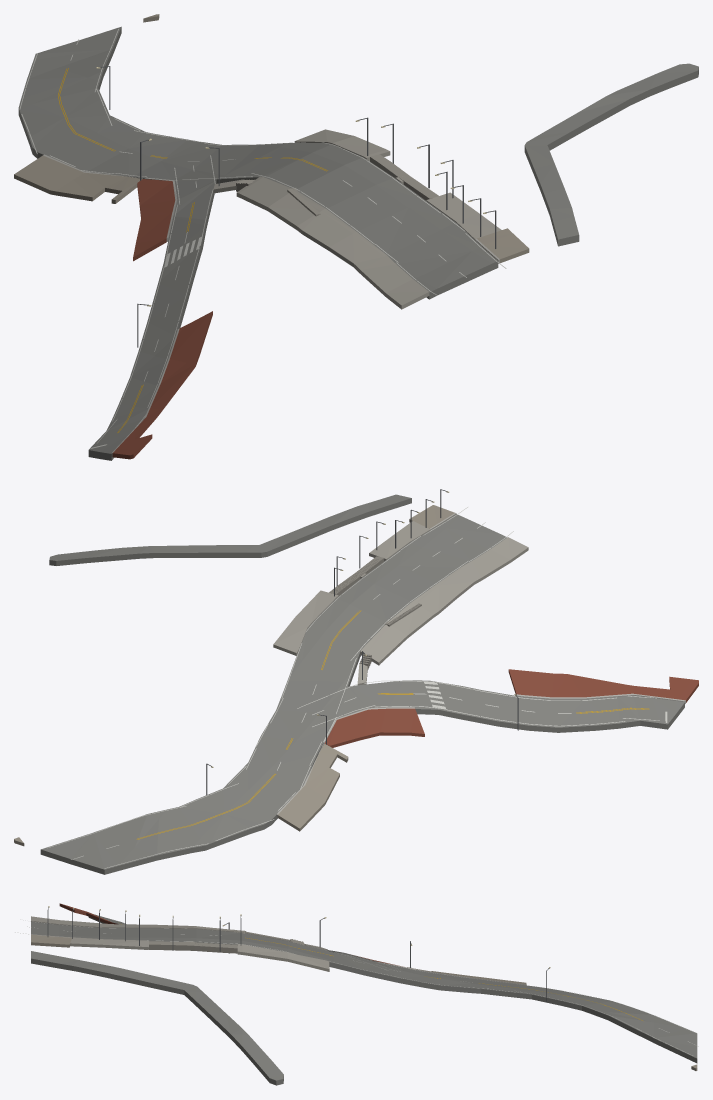
File: 18-218882-118948.eea14ec7.glb
3 views of the same model, one above another, from view 1: azimuth 30°, elevation 25°; view 2: azimuth 150°, elevation 25°; view 3: azimuth 270°, elevation 25° (orthographic). The views are drawn at different scales.
Size of the model in its own units: 130 by 34 by 150.
